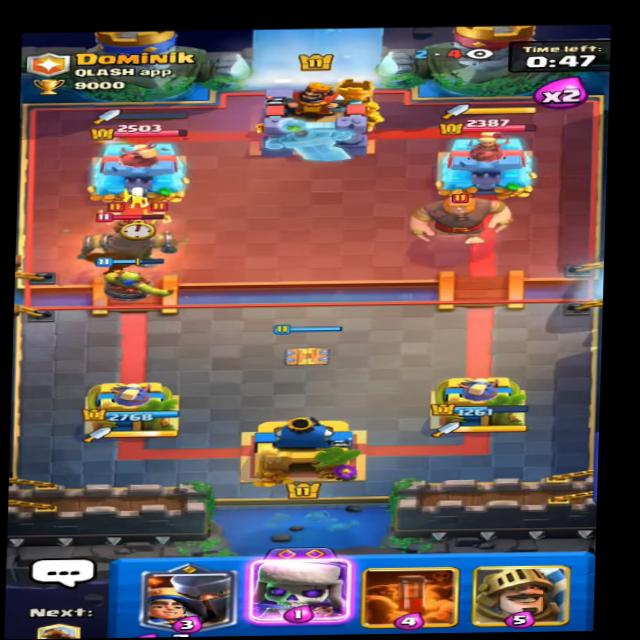giant: (399, 181, 514, 239)
goblin-machine: (77, 204, 184, 269)
skeleton: (121, 184, 149, 209)
